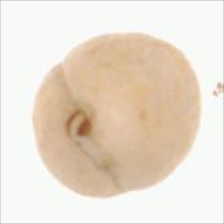L3: (64, 102, 99, 151)
L4: (33, 31, 201, 198)
